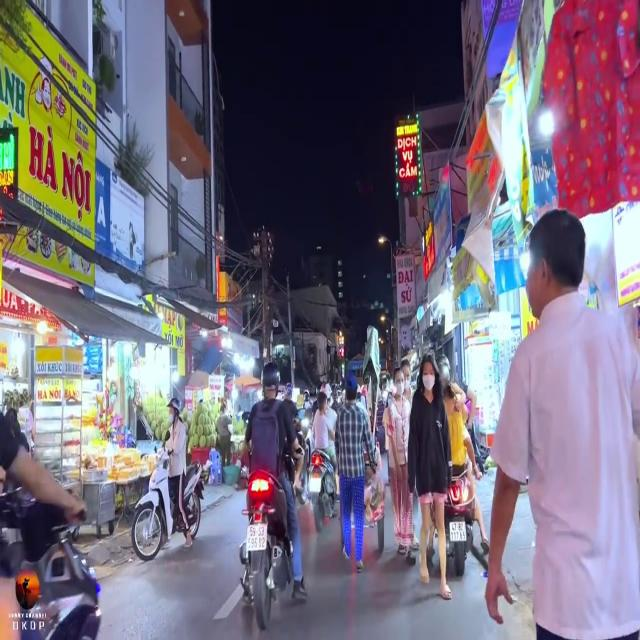bien_trang: (245, 523, 267, 552), (448, 520, 468, 546)
